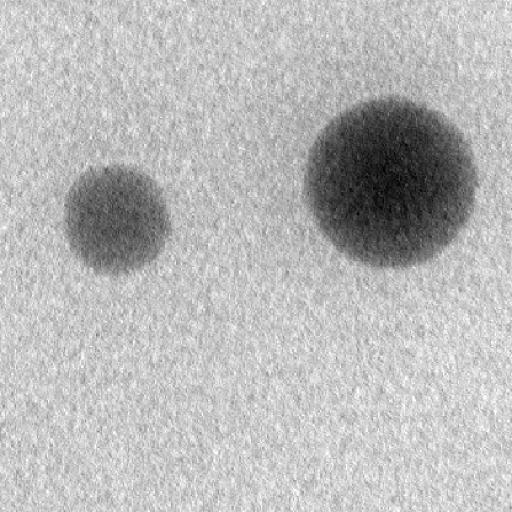Nanoparticles: (304, 95, 479, 264), (61, 163, 172, 279)
